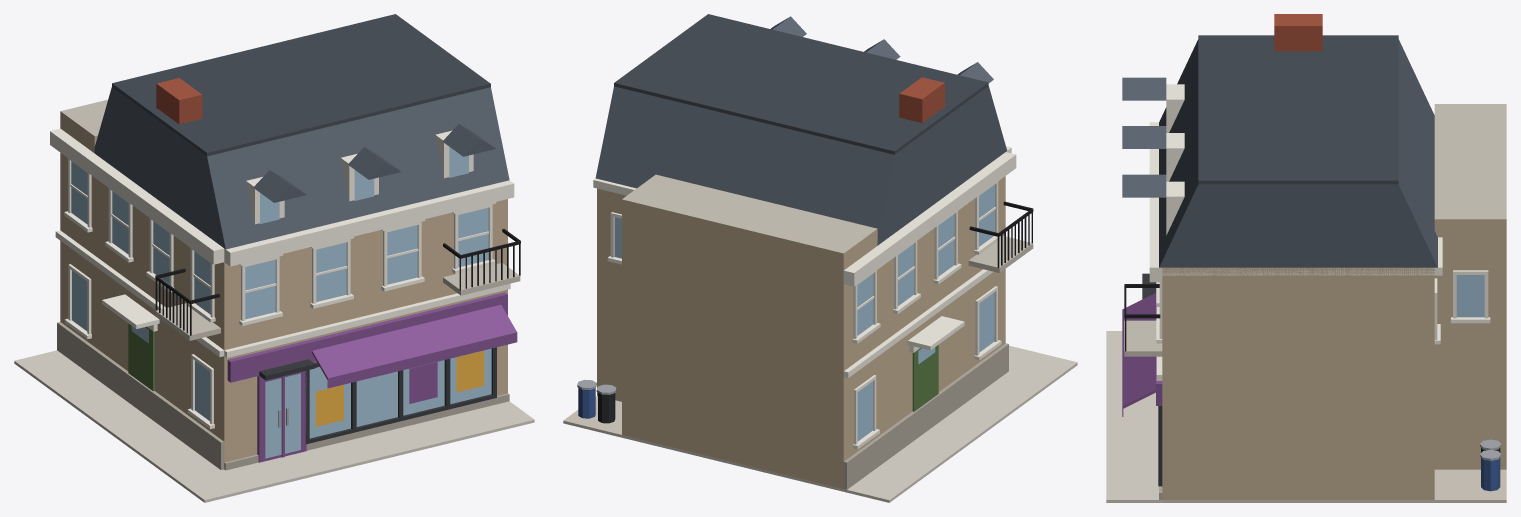
File: Blok_kose_2k_3_Hafif.fbx
The picture shows the model from 3 angles, left to right: view 1: azimuth 30°, elevation 25°; view 2: azimuth 150°, elevation 25°; view 3: azimuth 270°, elevation 25°; orthographic projection. The views are drawn at different scales.
Parts seen in each view (by area): view 1: Blok_kose_2k_3_Hafif; view 2: Blok_kose_2k_3_Hafif; view 3: Blok_kose_2k_3_Hafif.
Part boxes in pixels (<box>): Blok_kose_2k_3_Hafif: <box>14,14,534,502</box>; Blok_kose_2k_3_Hafif: <box>563,14,1077,502</box>; Blok_kose_2k_3_Hafif: <box>1106,14,1506,502</box>.
Size of the model in its own units: 10 by 9.62 by 10.
